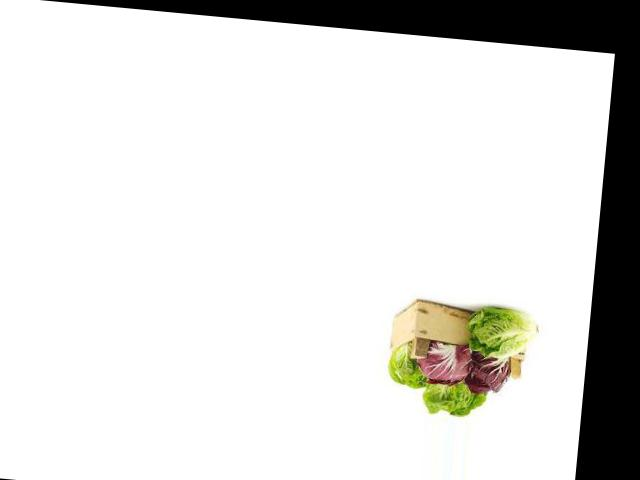lettuce: (352, 272, 514, 422)
